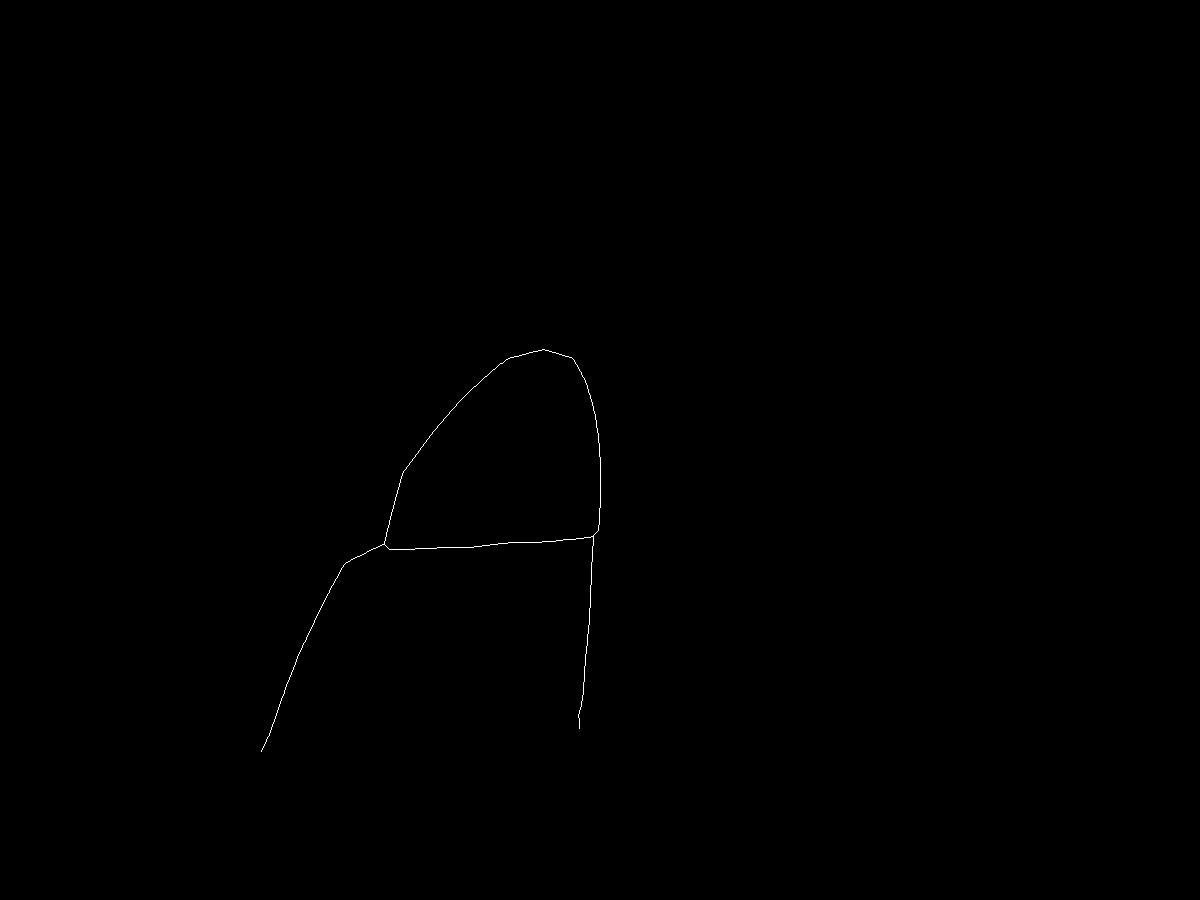dian1: (536, 345, 552, 360)
dian2: (374, 537, 393, 555)
dian3: (251, 745, 271, 764)
dian4: (586, 528, 602, 547)
dian5: (566, 721, 588, 738)
